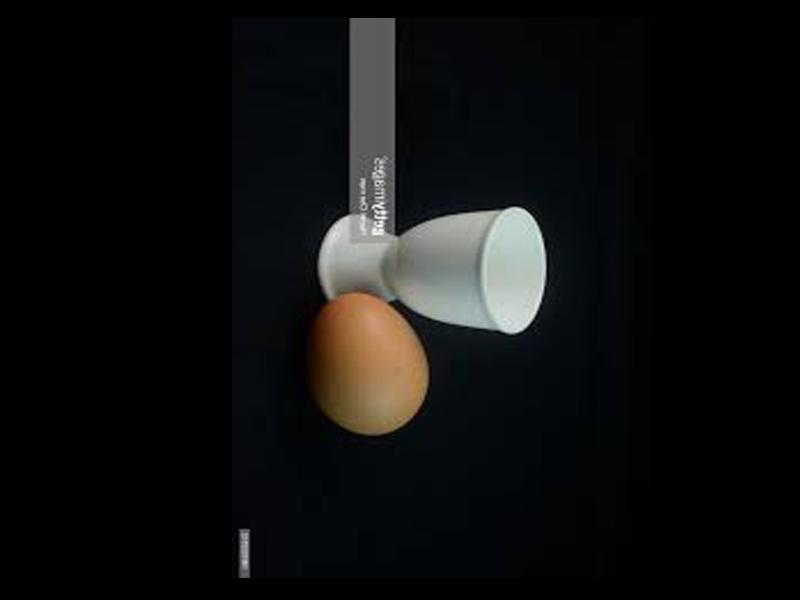Eggs: (314, 291, 429, 433)
